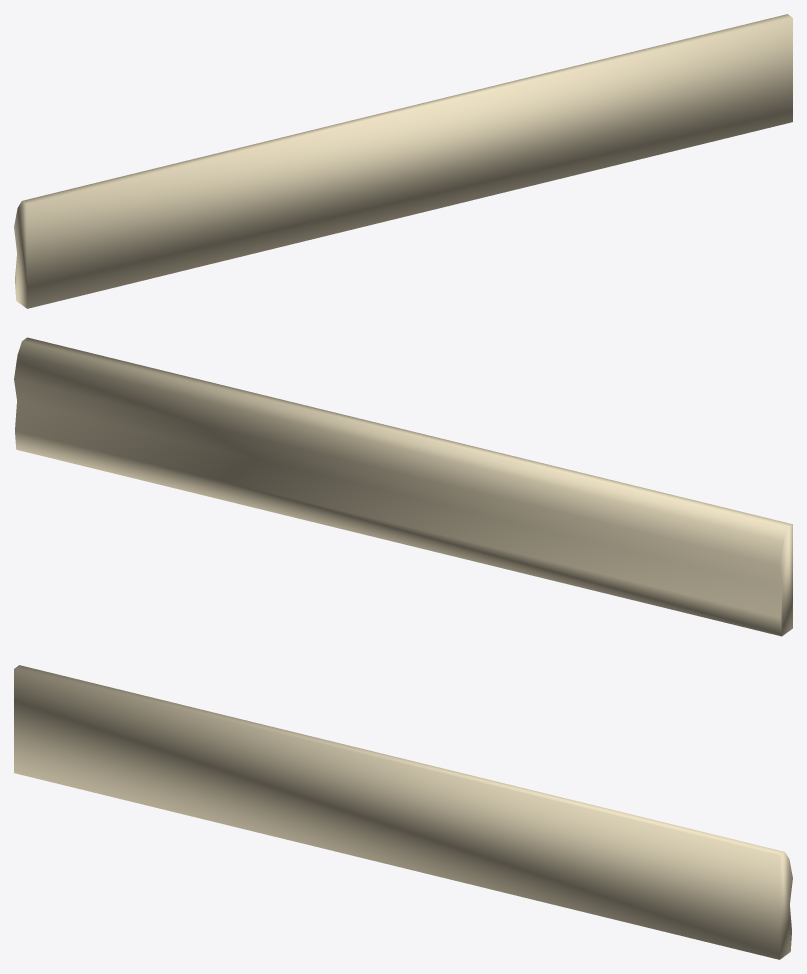
File: molding.glb
3 renders of one model, top to bottom at view 1: azimuth 30°, elevation 25°; view 2: azimuth 150°, elevation 25°; view 3: azimuth 330°, elevation 25°, orthographic.
Visible parts, largest first — view 1: House07_molding; view 2: House07_molding; view 3: House07_molding.
Boxes of the visible parts, box(x1,y1,x2,y2) form: House07_molding: box(14, 14, 792, 308); House07_molding: box(14, 337, 792, 636); House07_molding: box(14, 665, 792, 959).
Bounding box in the file's own units: 1 × 0.13 × 0.03.
